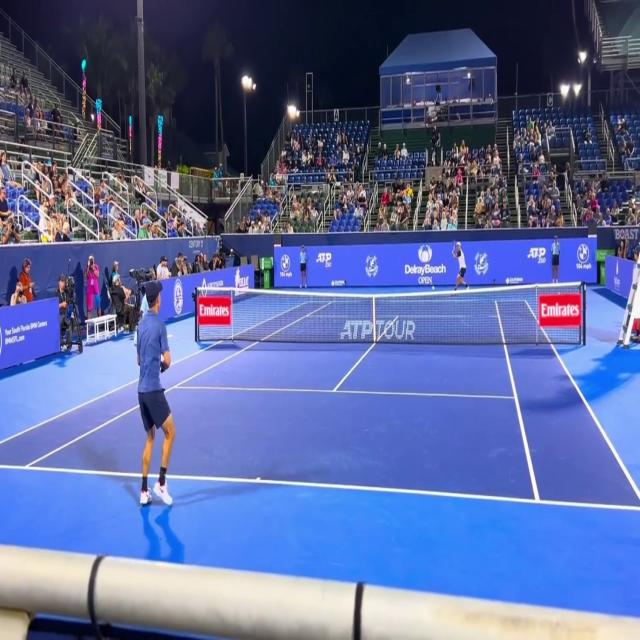tennisBall: (432, 280, 436, 296)
